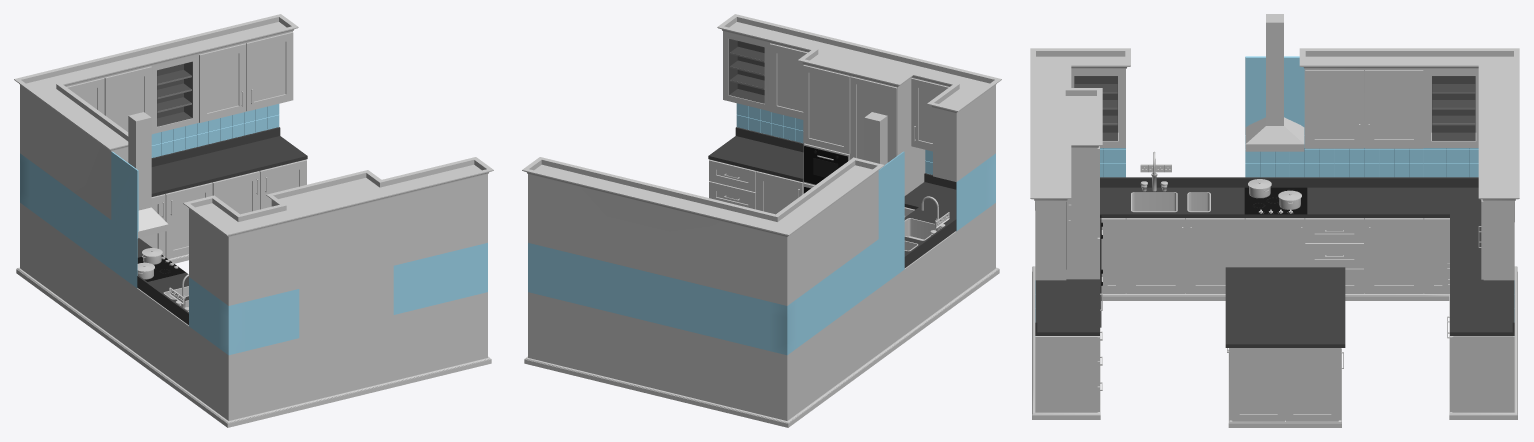
3 renders of one model, left to right at view 1: azimuth 30°, elevation 25°; view 2: azimuth 150°, elevation 25°; view 3: azimuth 270°, elevation 25°, orthographic. The views are drawn at different scales.
Parts seen in each view (by area): view 1: blast1; view 2: blast1; view 3: blast1.
Boxes of the visible parts, left/top/right/bottom form: blast1: left=14, top=14, right=493, bottom=427; blast1: left=522, top=14, right=1001, bottom=427; blast1: left=1030, top=14, right=1519, bottom=427.
Size of the model in its own units: 0.0362 by 0.0279 by 0.047.
